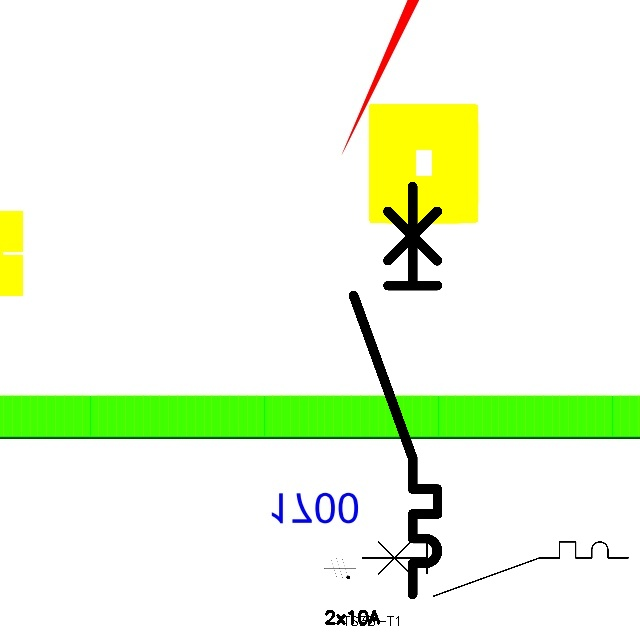interruptor_termomagnetico: (343, 176, 448, 605), (355, 535, 634, 603)
